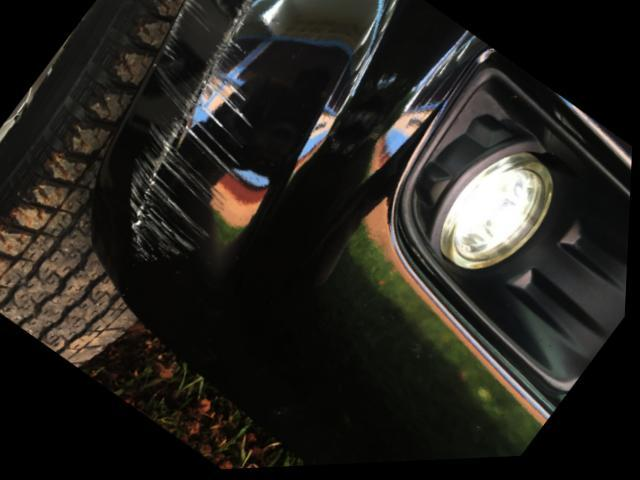rub: (130, 0, 257, 267)
